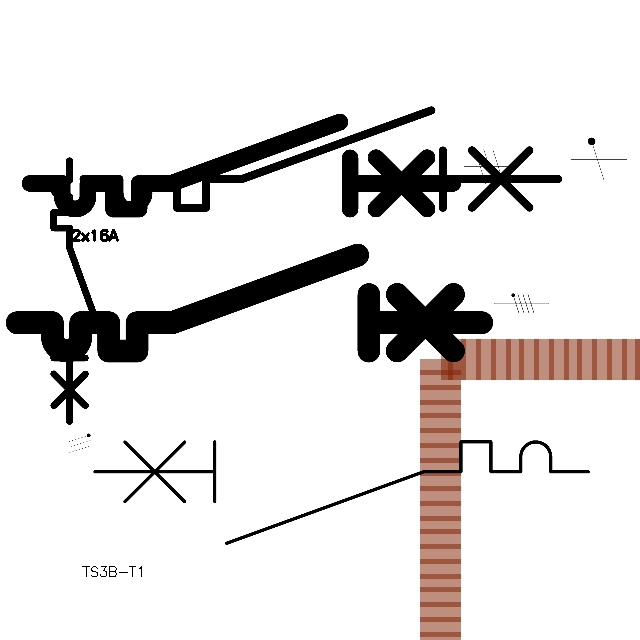interruptor_termomagnetico: (82, 429, 601, 556), (71, 98, 571, 220), (5, 243, 493, 363), (19, 111, 463, 220), (47, 154, 114, 428)
